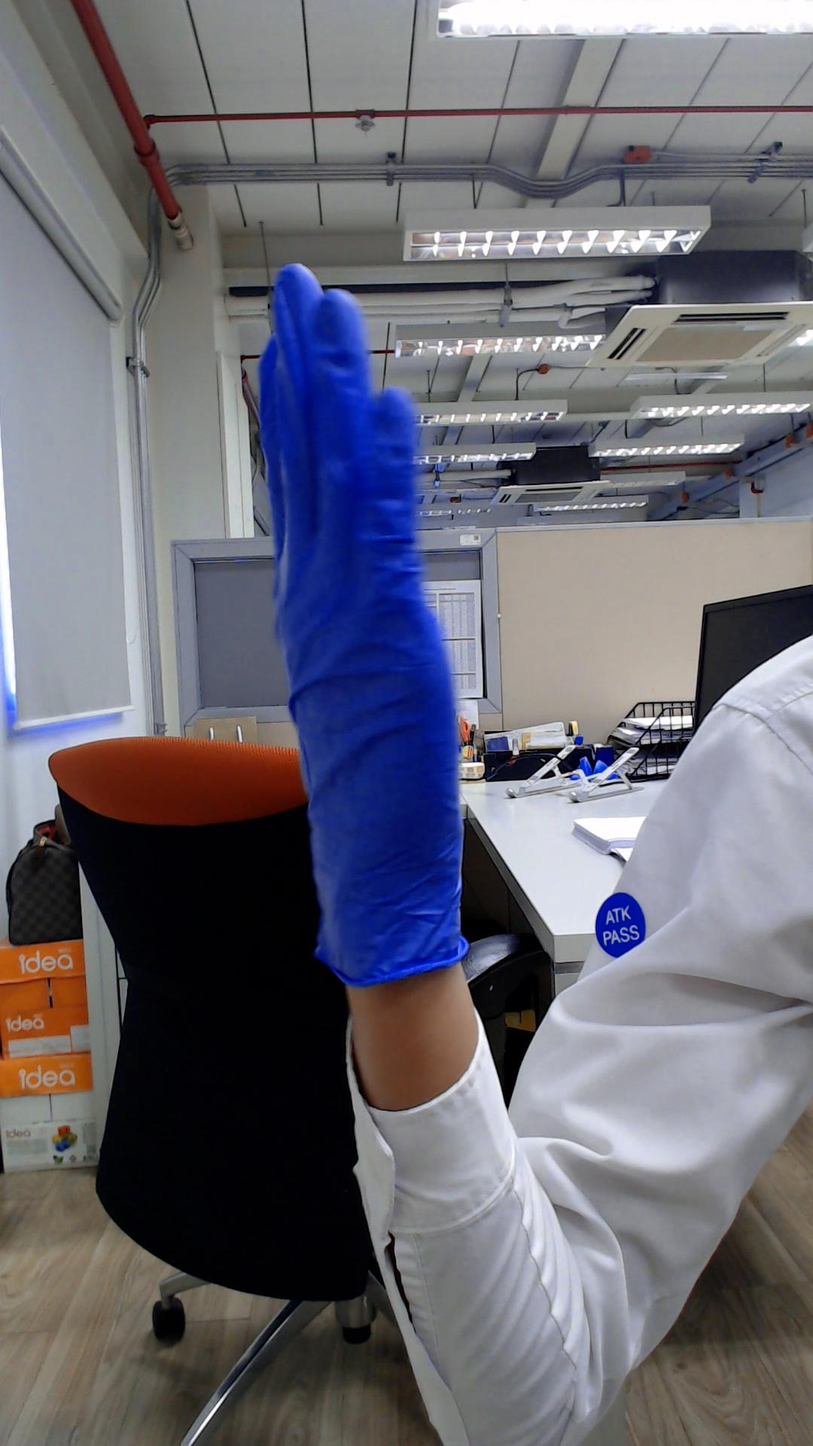gloves: (197, 234, 522, 820)
